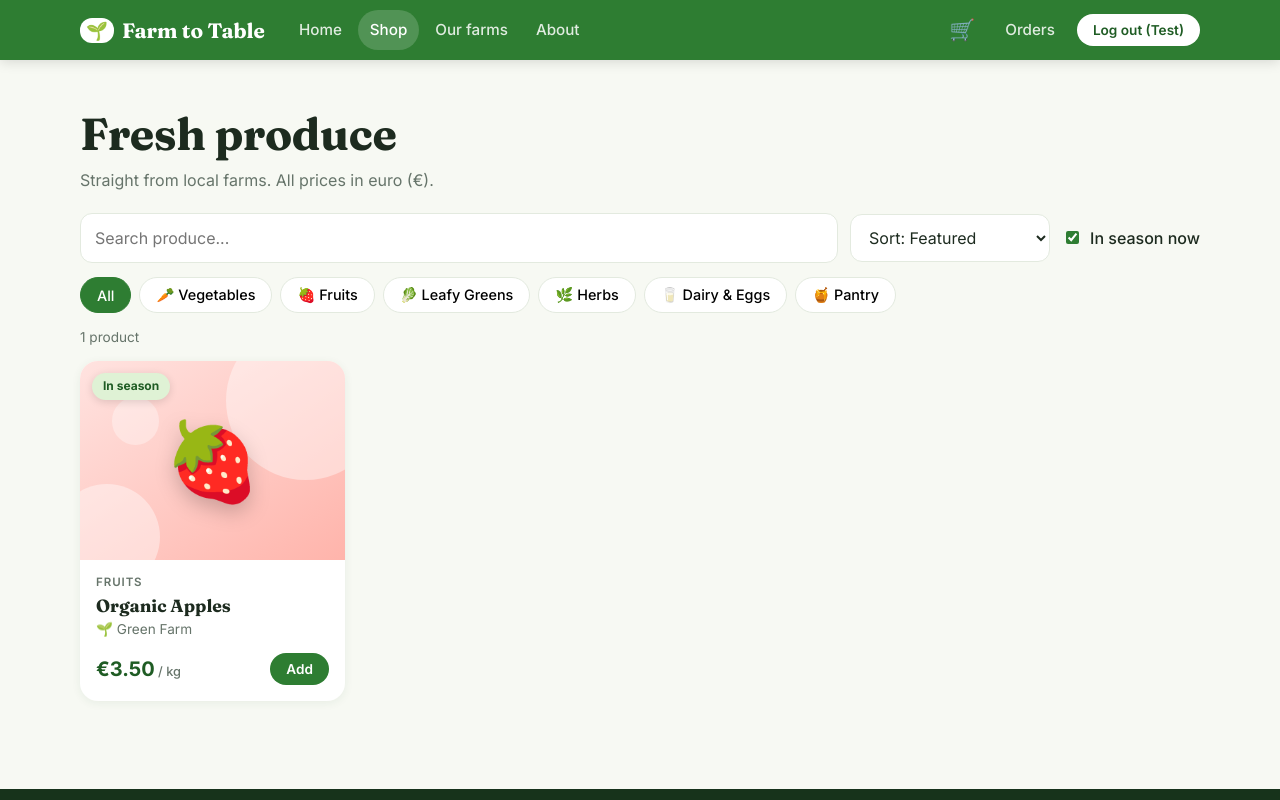
Test case: Farm-to-Table Frontend Tests › 8. Requires delivery details before checkout
Click the button "Add" at (300, 669), box [270,653,329,685]
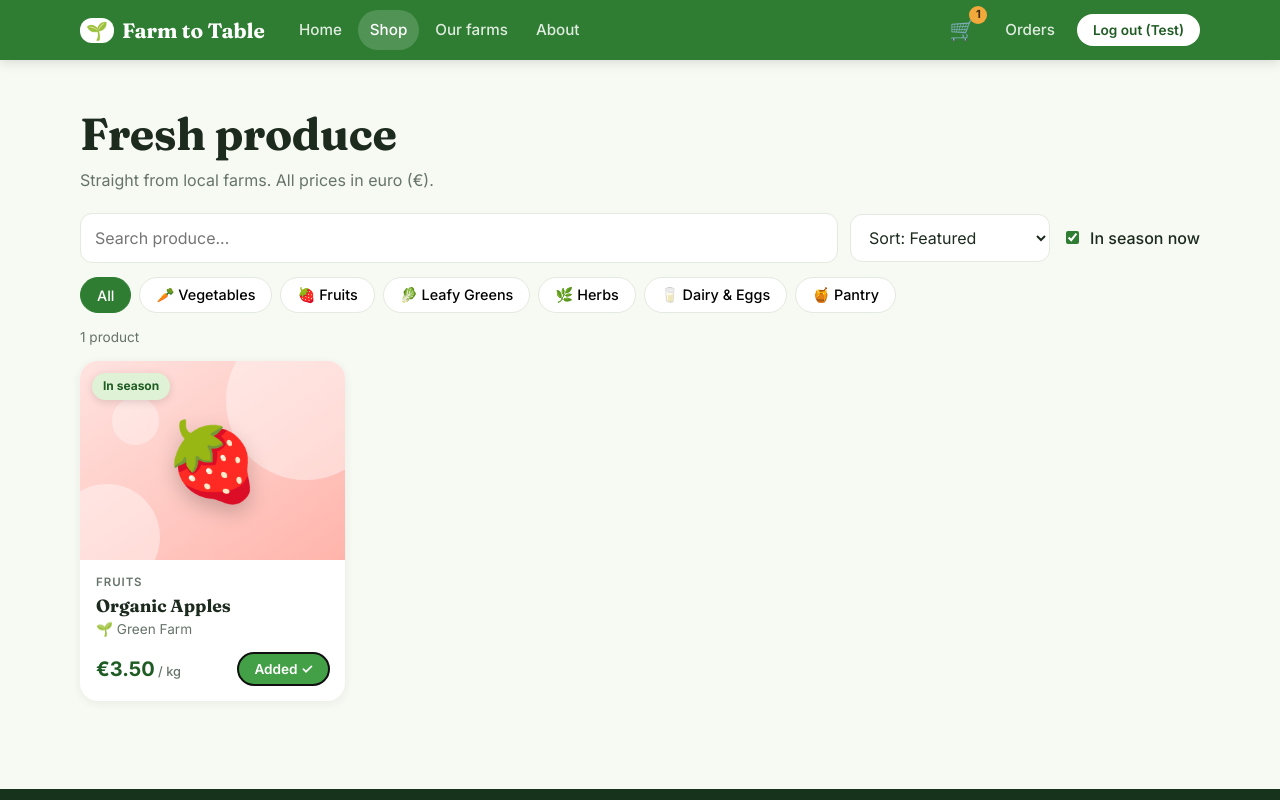
Click the link named "Cart" at (962, 30), box [941,10,983,50]
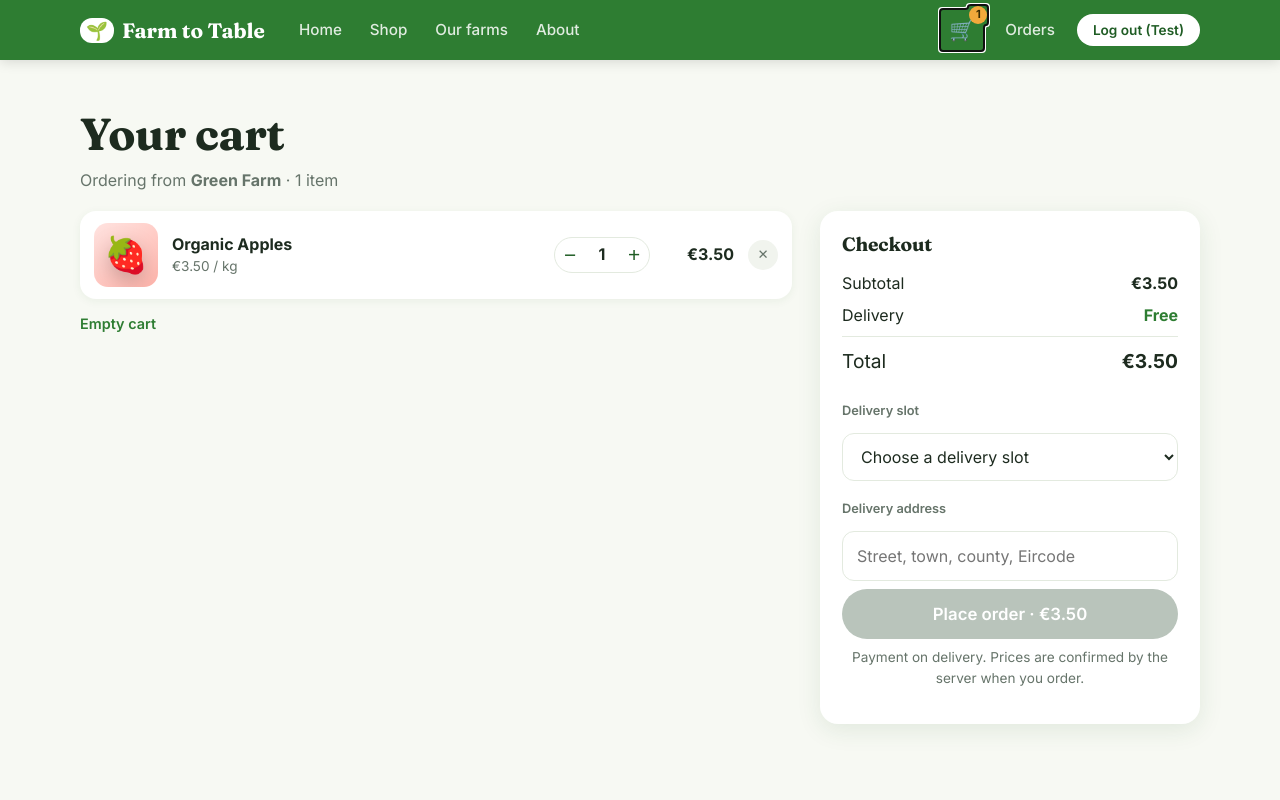
Expected: the button "Place order · €3.50" is disabled, [842,589,1178,639]
Select "Morning 8-12 · 10 left" in the dropdown at (1010, 457), box [842,433,1178,481]
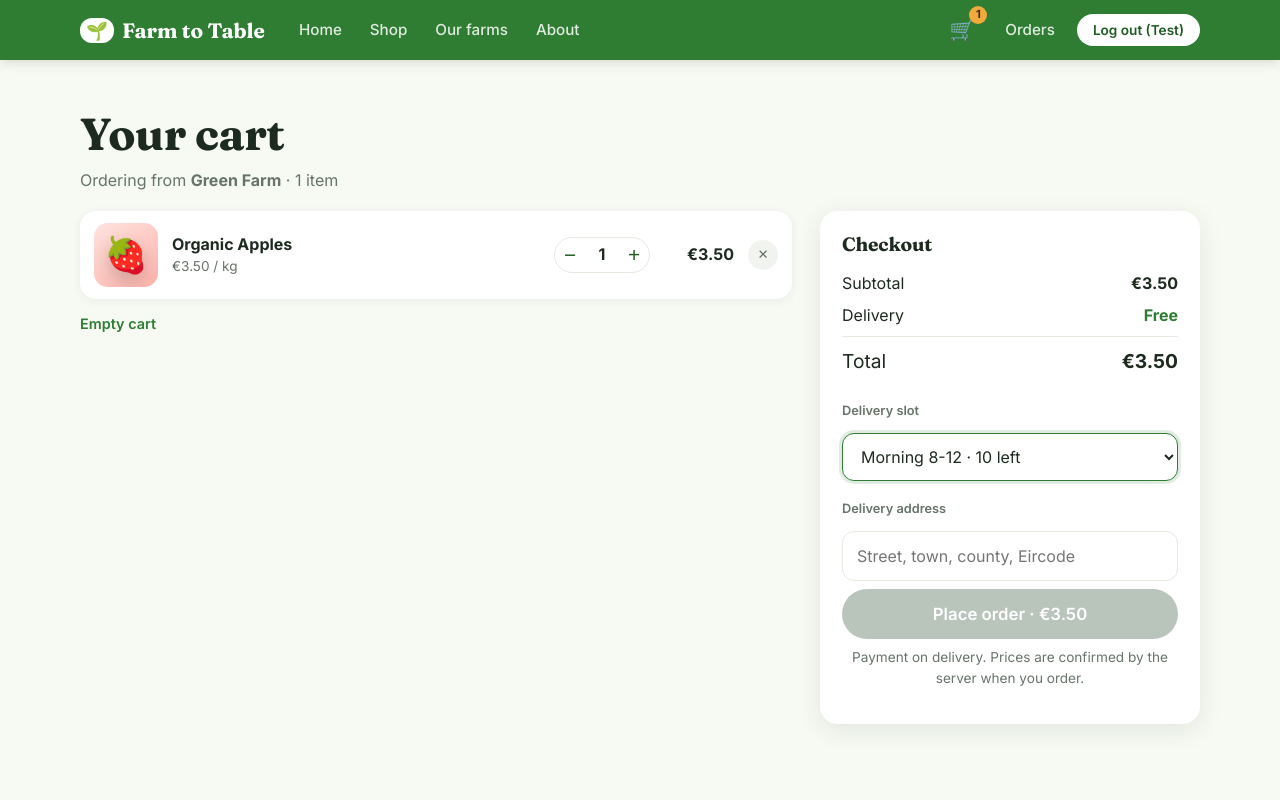
Expected: the button "Place order · €3.50" is disabled, [842,589,1178,639]
Type "123 Test Street" into the field with placeholder "Street, town, county, Eircode" at (1010, 556), box [842,531,1178,581]
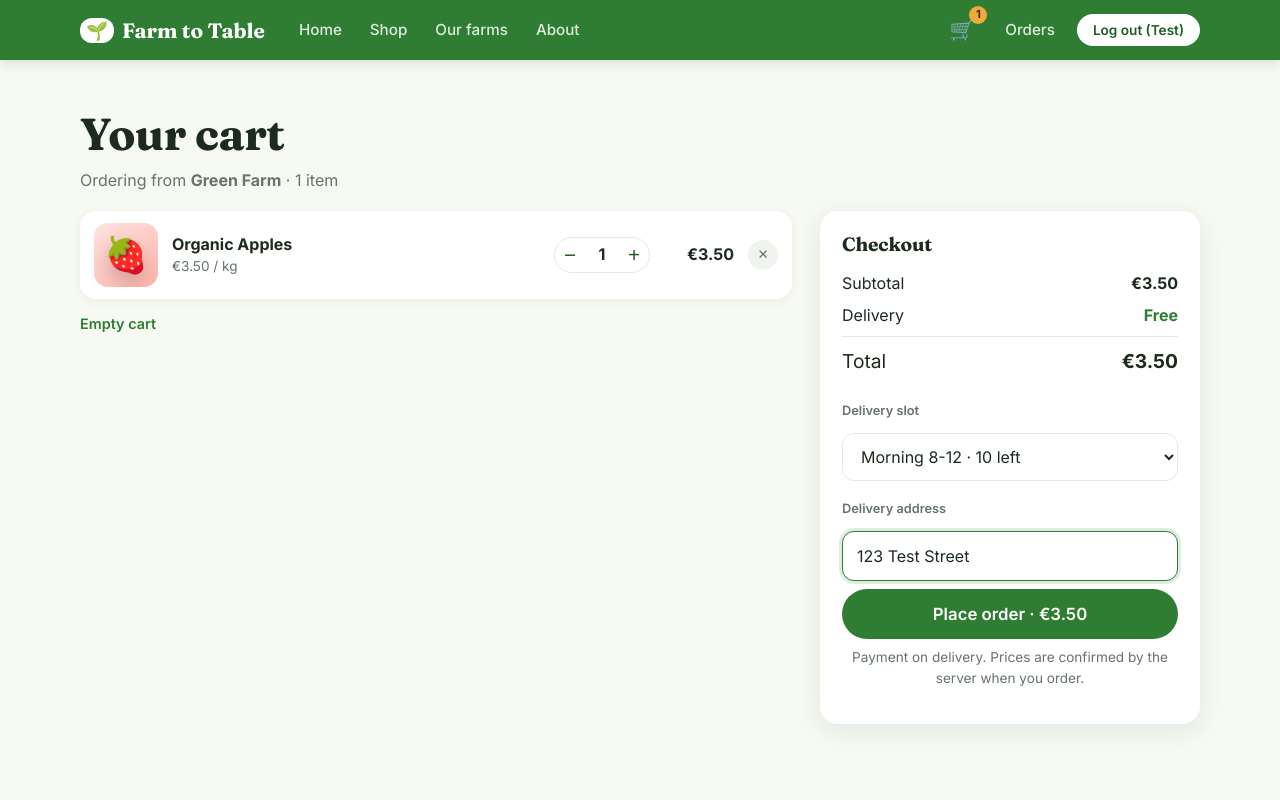
Expected: the button "Place order · €3.50" is enabled, [842,589,1178,639]
